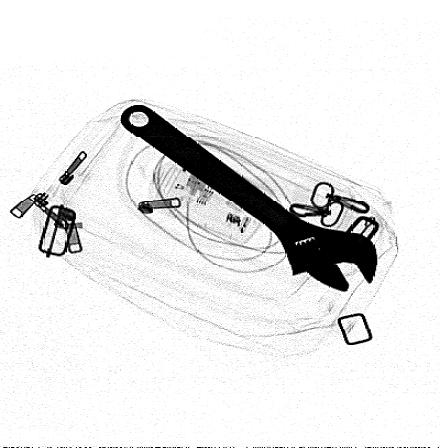Wrench: (119, 103, 380, 293)
